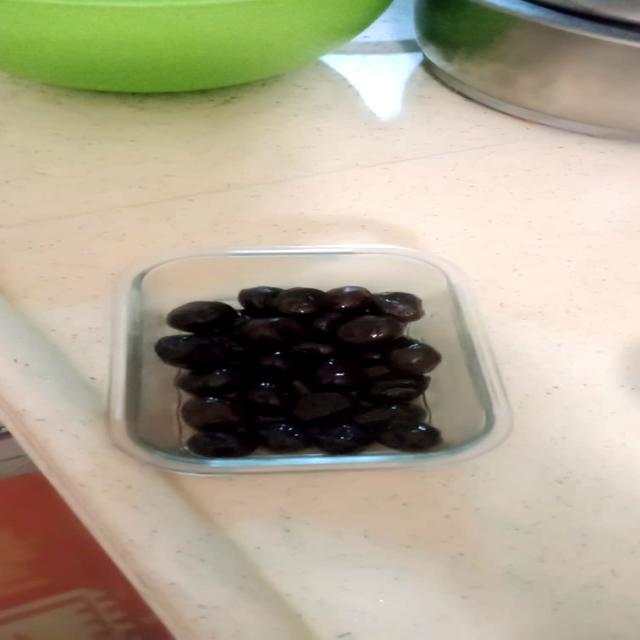olive: (154, 271, 472, 475), (216, 299, 326, 356), (163, 387, 271, 435), (173, 419, 280, 466), (313, 306, 421, 349), (303, 414, 392, 465)
